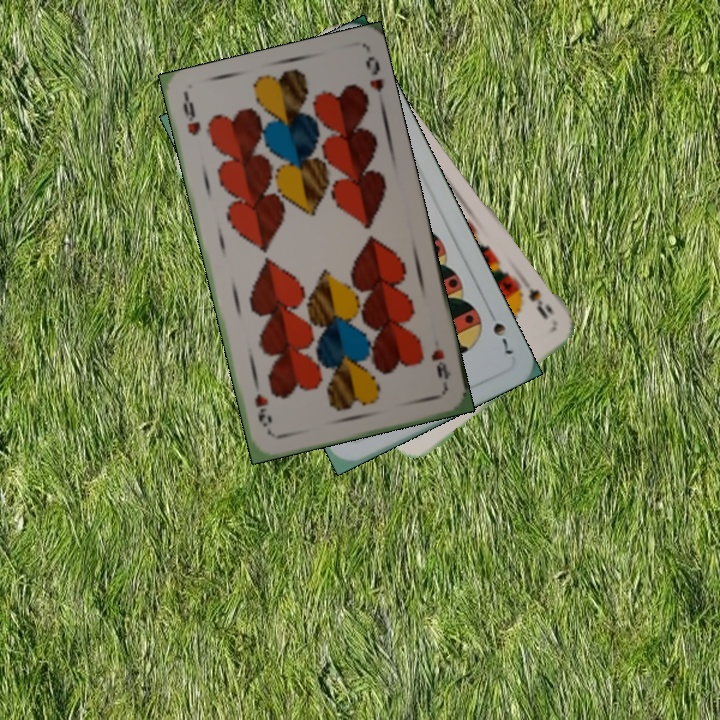H9: (427, 344, 454, 391), (179, 93, 203, 139)
S7: (483, 304, 515, 358)
S9: (512, 278, 556, 323)
